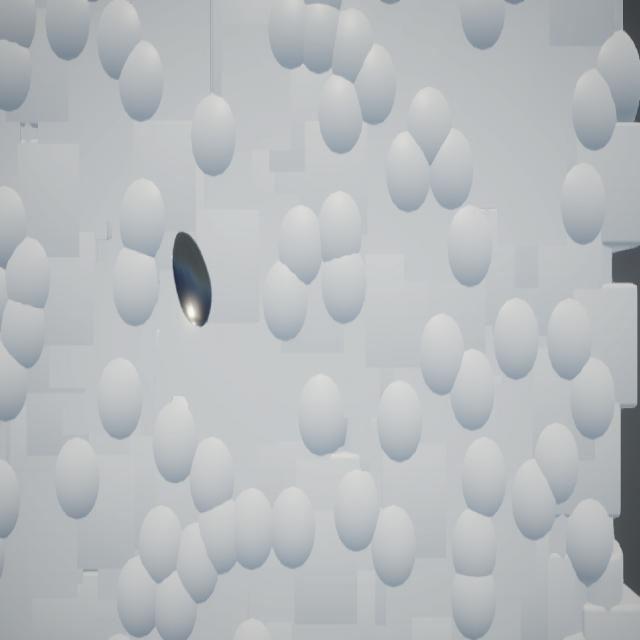top_spoon: (174, 233, 214, 329)
